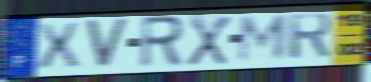M: (235, 13, 291, 63)
R: (137, 14, 185, 71), (287, 11, 334, 61)
V: (82, 18, 131, 70)
X: (186, 14, 233, 68), (35, 21, 83, 72)
